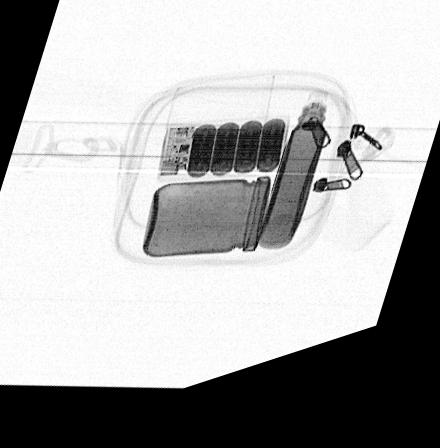Powerbank: (156, 133, 288, 192)
